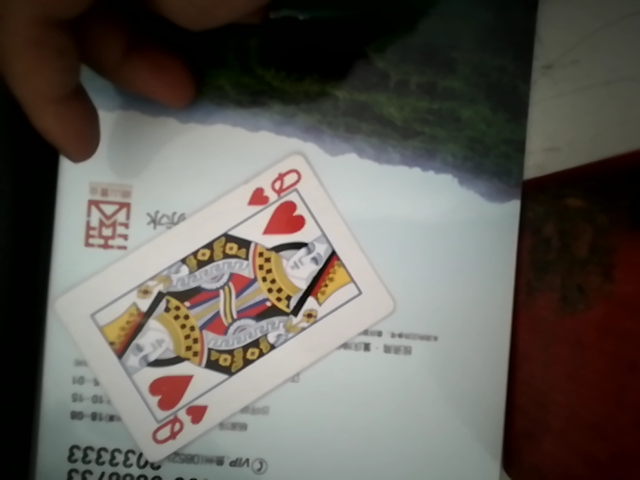hx q: (54, 148, 399, 456)
